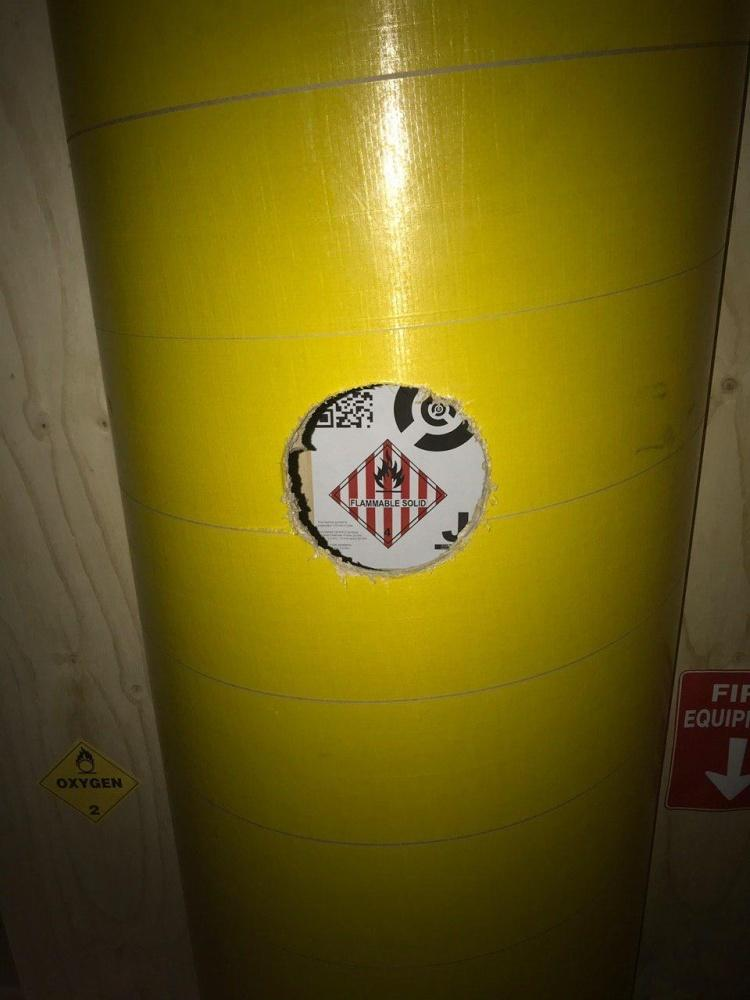flammable-solid: (326, 440, 452, 548)
oxidizer: (36, 736, 143, 824)
